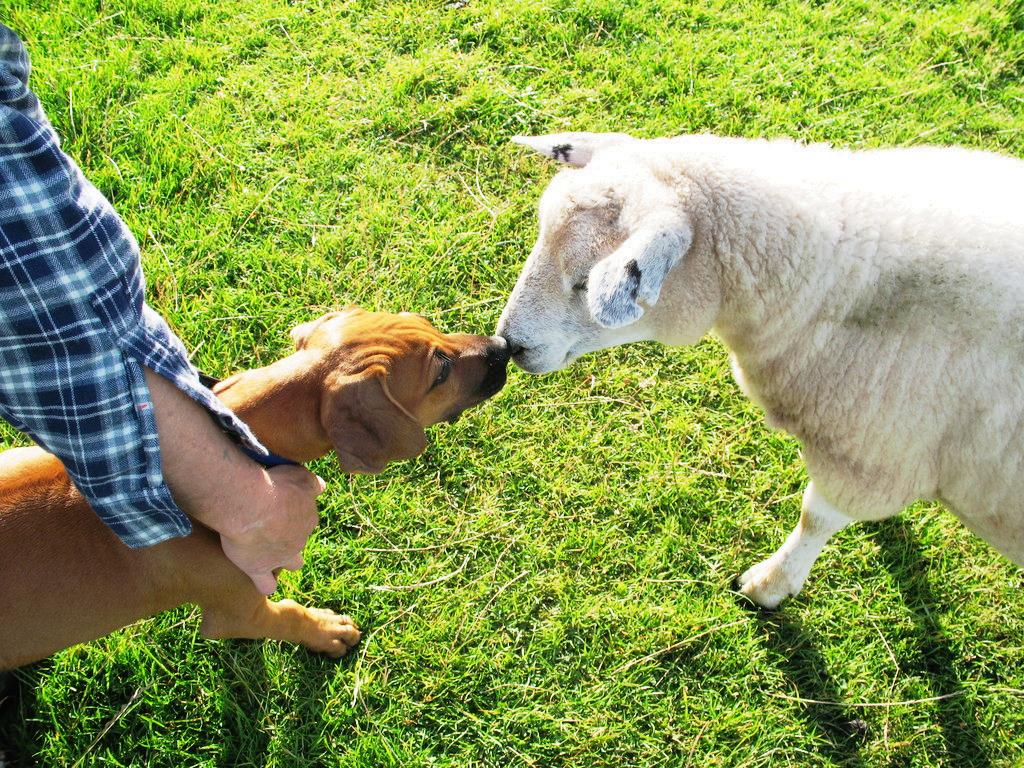Sheep: (494, 128, 1024, 616)
